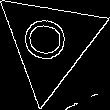O_E: (23, 17, 77, 68)
